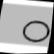no answer: (18, 16, 52, 45)
